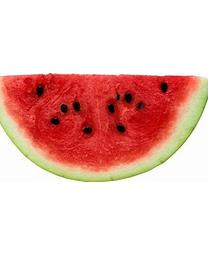watermelon: (1, 73, 207, 183)
